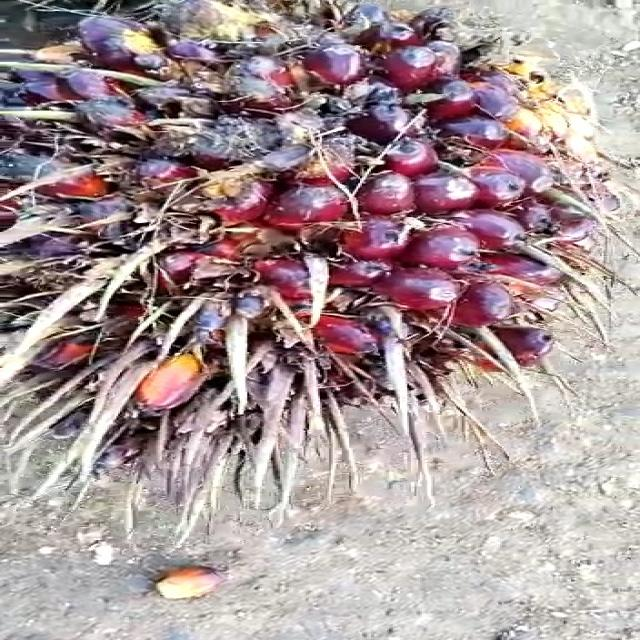palm oil: (0, 0, 592, 510)
